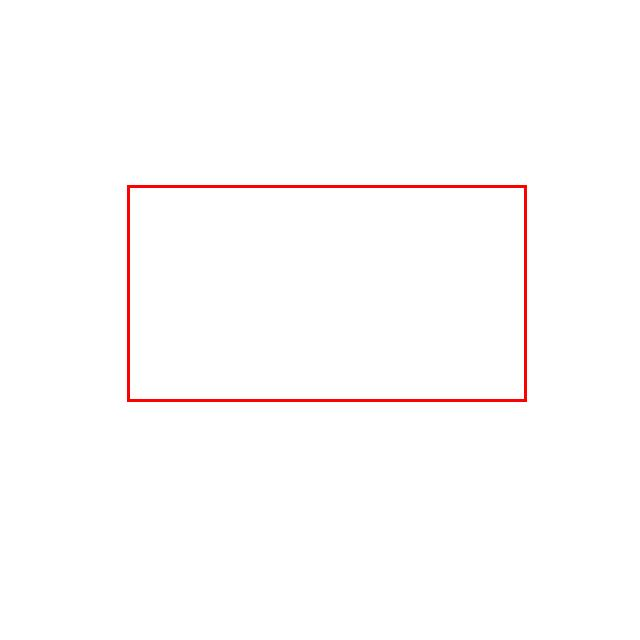Sprite: (127, 185, 526, 401)
